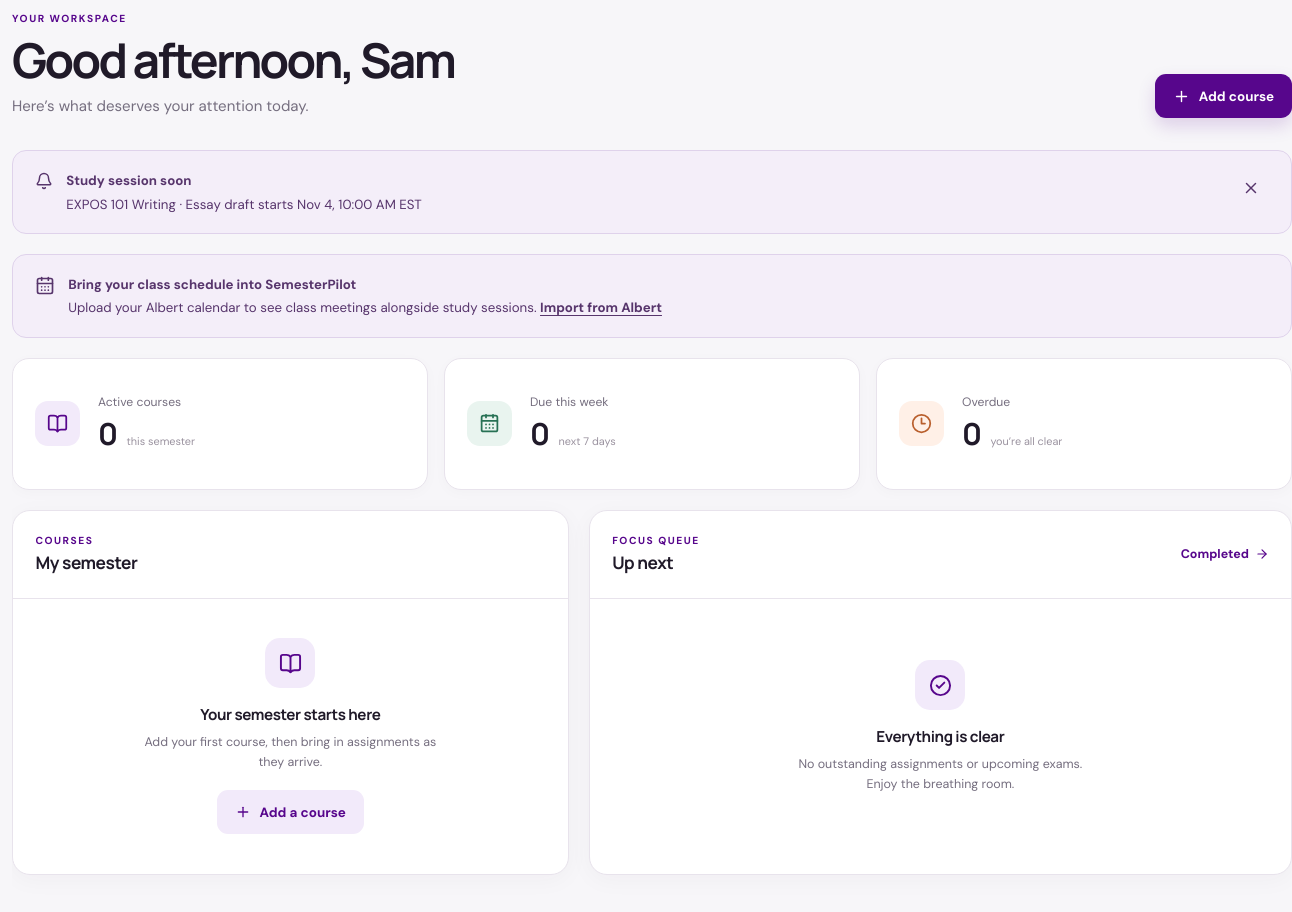
Test: study session reminders on the dashboard › still works when browser storage is unavailable
Check: the message "Study session soon EXPOS 101 Writing · Essay draft starts Nov 4, 10:00 AM EST" is shown, box [12, 150, 1291, 234]
Click the button named "dismiss reminder".
click(1251, 188)  # box [1233, 170, 1269, 206]
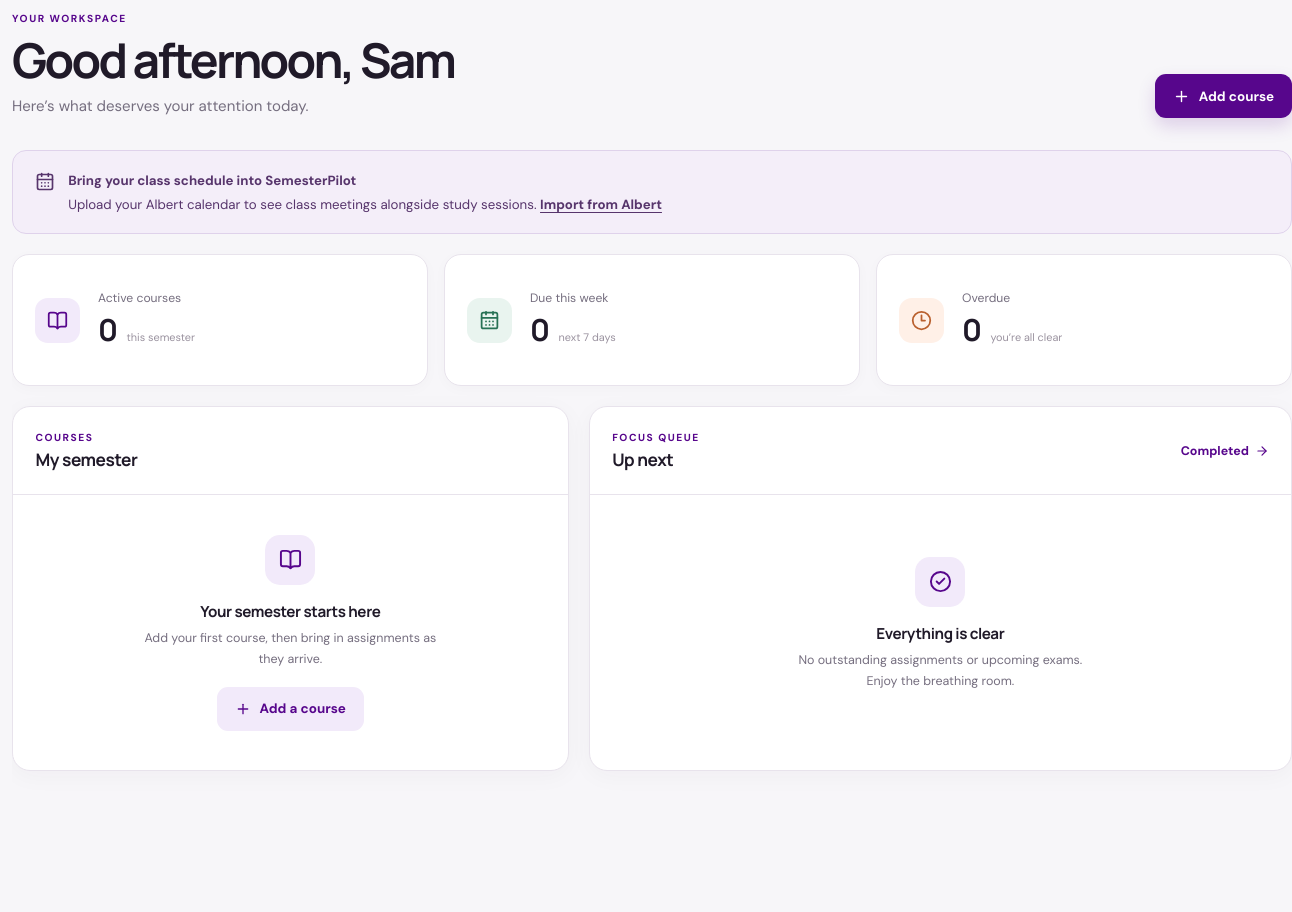
Check: the message "Study session soon EXPOS 101 Writing · Essay draft starts Nov 4, 10:00 AM EST" is gone
